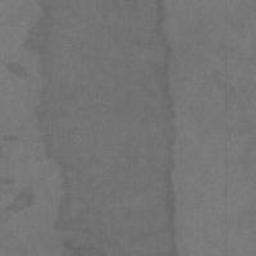Water spot: (23, 0, 180, 256), (0, 186, 33, 225), (3, 61, 29, 76), (1, 133, 22, 142), (0, 175, 18, 184)
